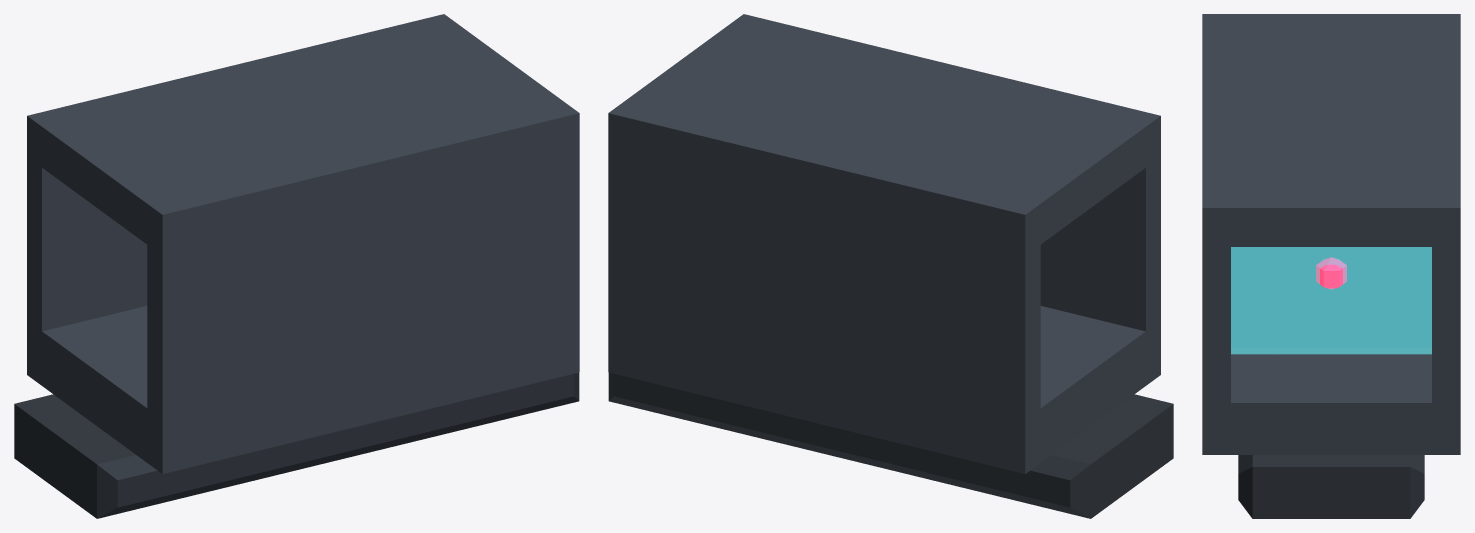
File: sight_holo.glb
3 views of the same model, side by side, from view 1: azimuth 30°, elevation 25°; view 2: azimuth 150°, elevation 25°; view 3: azimuth 270°, elevation 25° (orthographic). The views are drawn at different scales.
Visible parts, largest first — view 1: sight_holo; view 2: sight_holo; view 3: sight_holo.
Part boxes in pixels (box(x1,y1,x2,y2)): sight_holo: box(14, 14, 579, 518); sight_holo: box(608, 14, 1173, 518); sight_holo: box(1202, 14, 1460, 518).
Bounding box in the file's own units: 0.074 × 0.046 × 0.036.
